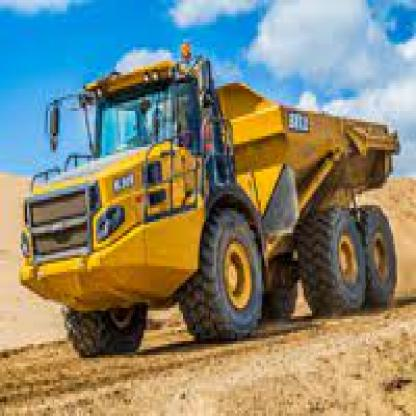dump_truck: (0, 41, 401, 360)
